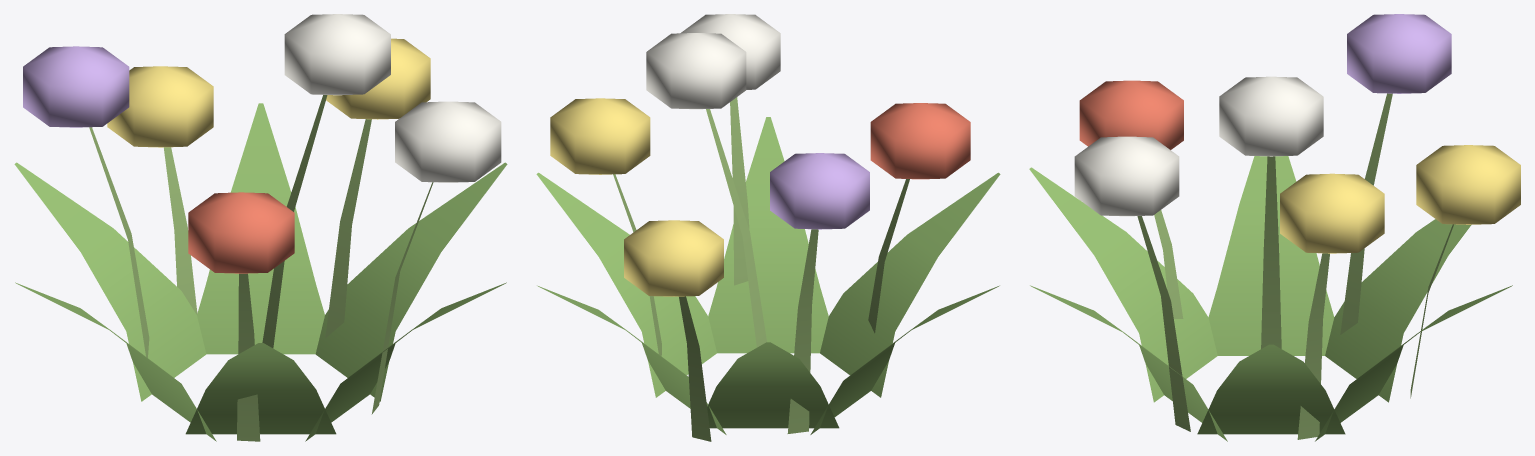
Rendered from gourd-prop-flower-clump.glb.
3 renders of one model, left to right at view 1: azimuth 30°, elevation 25°; view 2: azimuth 150°, elevation 25°; view 3: azimuth 270°, elevation 25°, orthographic. The views are drawn at different scales.
Visible parts, largest first — view 1: leaf1, leaf2, leaf0, leaf4, head3, head0, head4, head2, head5, head1, st1, leaf3 (+6 smaller); view 2: leaf5, leaf4, leaf2, leaf0, head1, head3, head0, head2, head5, head4, st2, leaf3 (+6 smaller); view 3: leaf3, leaf4, leaf2, leaf0, head4, head2, head5, head0, head1, head3, st0, leaf1 (+5 smaller).
Part boxes in pixels (bbox=[...]): leaf1: bbox=[197, 103, 324, 354]; leaf2: bbox=[14, 162, 206, 401]; leaf0: bbox=[315, 162, 507, 401]; leaf4: bbox=[185, 343, 336, 434]; head3: bbox=[188, 192, 294, 273]; head0: bbox=[284, 14, 390, 95]; head4: bbox=[395, 101, 501, 182]; head2: bbox=[23, 46, 129, 127]; head5: bbox=[107, 66, 213, 147]; head1: bbox=[326, 38, 430, 119]; st1: bbox=[325, 119, 371, 338]; leaf3: bbox=[15, 282, 216, 441]; leaf5: bbox=[708, 117, 828, 353]; leaf4: bbox=[820, 172, 1000, 397]; leaf2: bbox=[707, 342, 839, 428]; leaf0: bbox=[536, 172, 716, 397]; head1: bbox=[550, 98, 650, 174]; head3: bbox=[870, 103, 970, 179]; head0: bbox=[646, 33, 746, 109]; head2: bbox=[770, 153, 869, 229]; head5: bbox=[624, 220, 723, 296]; head4: bbox=[680, 14, 780, 89]; st2: bbox=[787, 229, 818, 433]; leaf3: bbox=[810, 285, 999, 434]; leaf3: bbox=[1208, 156, 1334, 355]; leaf4: bbox=[1029, 167, 1217, 402]; leaf2: bbox=[1325, 219, 1471, 402]; leaf0: bbox=[1197, 344, 1345, 434]; head4: bbox=[1074, 136, 1179, 216]; head2: bbox=[1347, 14, 1451, 93]; head5: bbox=[1416, 145, 1520, 224]; head0: bbox=[1219, 76, 1323, 156]; head1: bbox=[1280, 173, 1384, 253]; head3: bbox=[1079, 80, 1183, 149]; st0: bbox=[1261, 156, 1281, 348]; leaf1: bbox=[1315, 285, 1512, 441].
Bounding box in the file's own units: 0.048 × 0.0338 × 0.0424.
